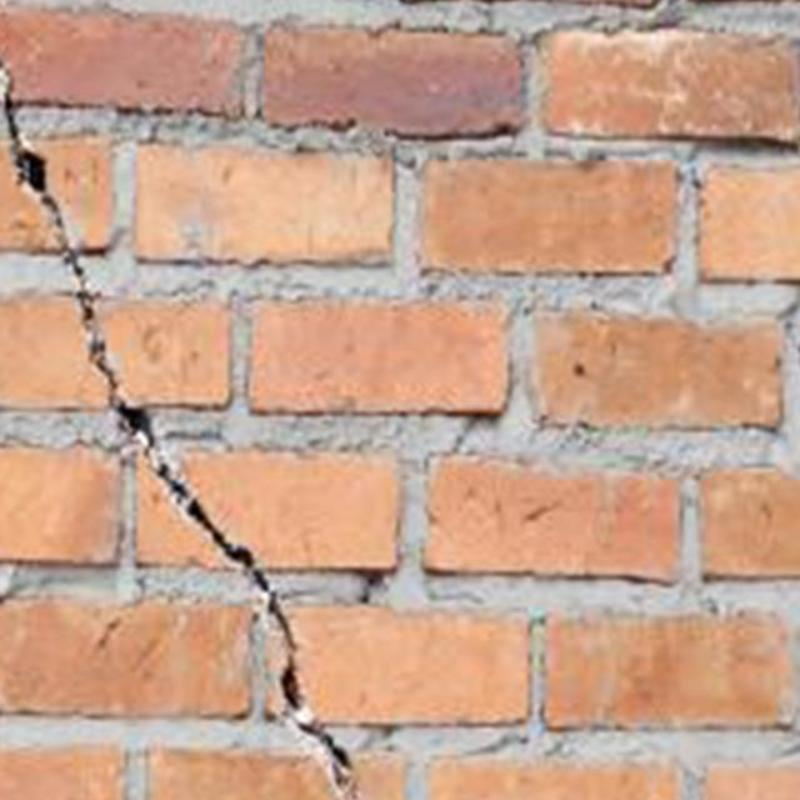pothole: (0, 59, 356, 799), (451, 414, 480, 454), (360, 571, 380, 608)
